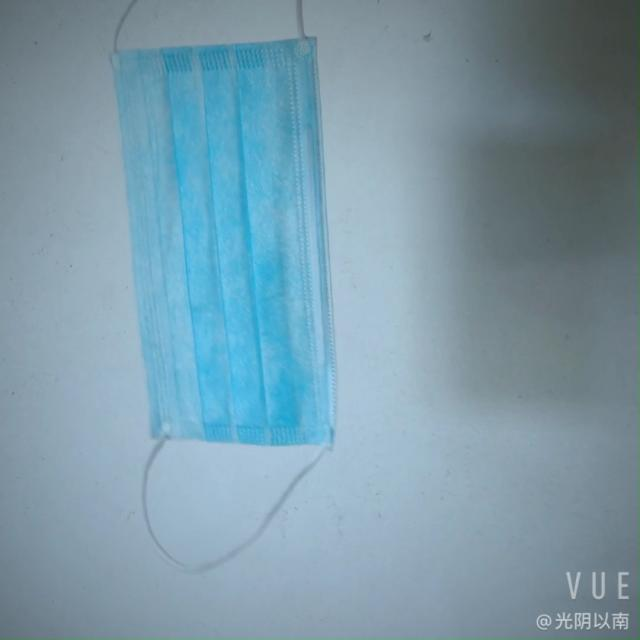non-organic waste: (123, 33, 336, 477)
